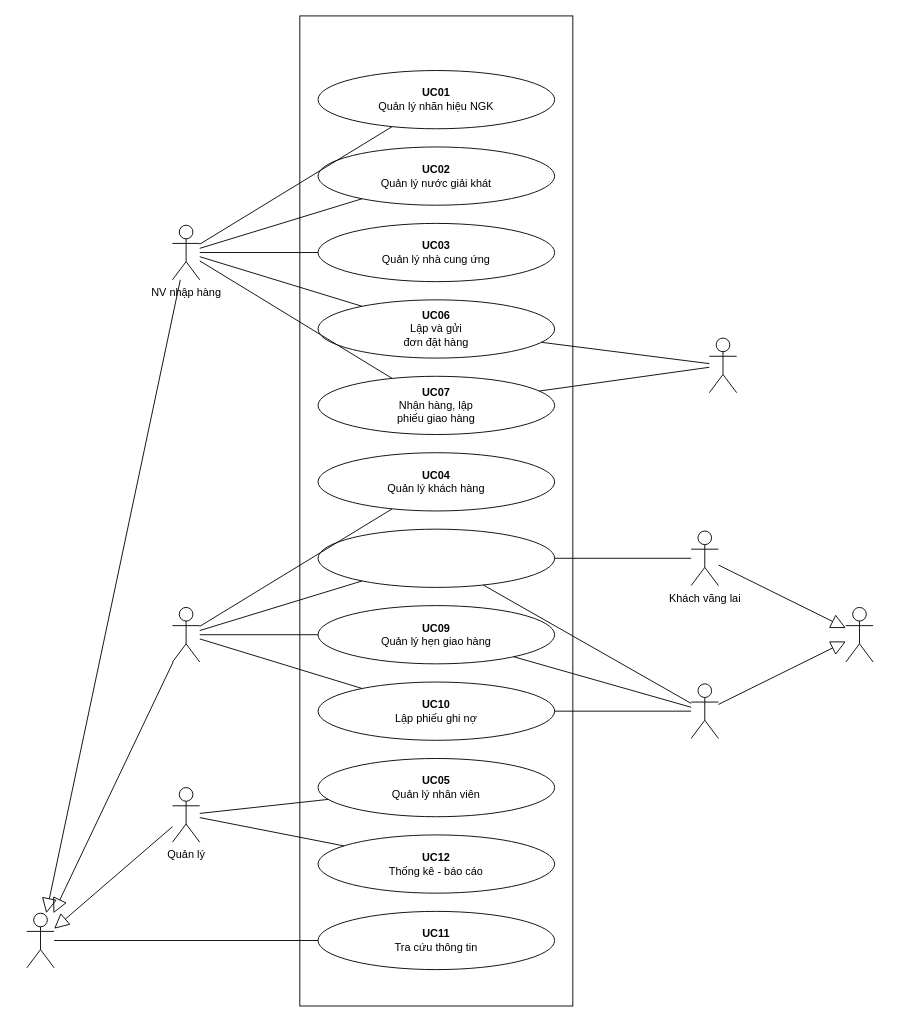
This 904x1022 diagram has some shape labels left out. The shapes that lost their labels are listed below. From the top down, each one's box as (x1, y1, x2, y2) in pixels, then its label:
(708, 337, 737, 393): Nhà cung ứng
(299, 15, 573, 1006): HỆ THỐNG QUẢN LÝ CỬA HÀNG NƯỚC GIẢI KHÁT
(317, 528, 555, 587): UC08 Bán hàng (lập hóa đơn)
(172, 607, 200, 662): NV bán hàng
(845, 607, 873, 662): Khách hàng
(690, 683, 718, 738): Khách quen
(26, 912, 54, 968): Nhân viên
